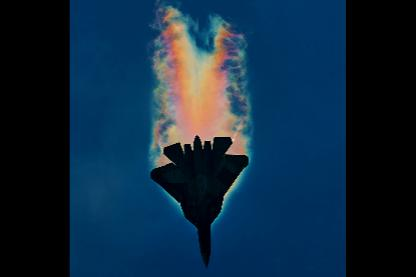SR71: (150, 134, 249, 268)
